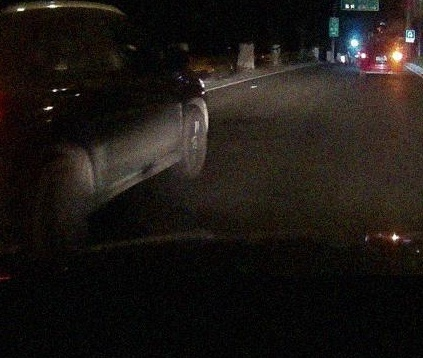L_light: (361, 53, 370, 58)
R_light: (391, 54, 402, 58)
T_light: (379, 43, 385, 45)
night-right: (360, 41, 403, 80)
